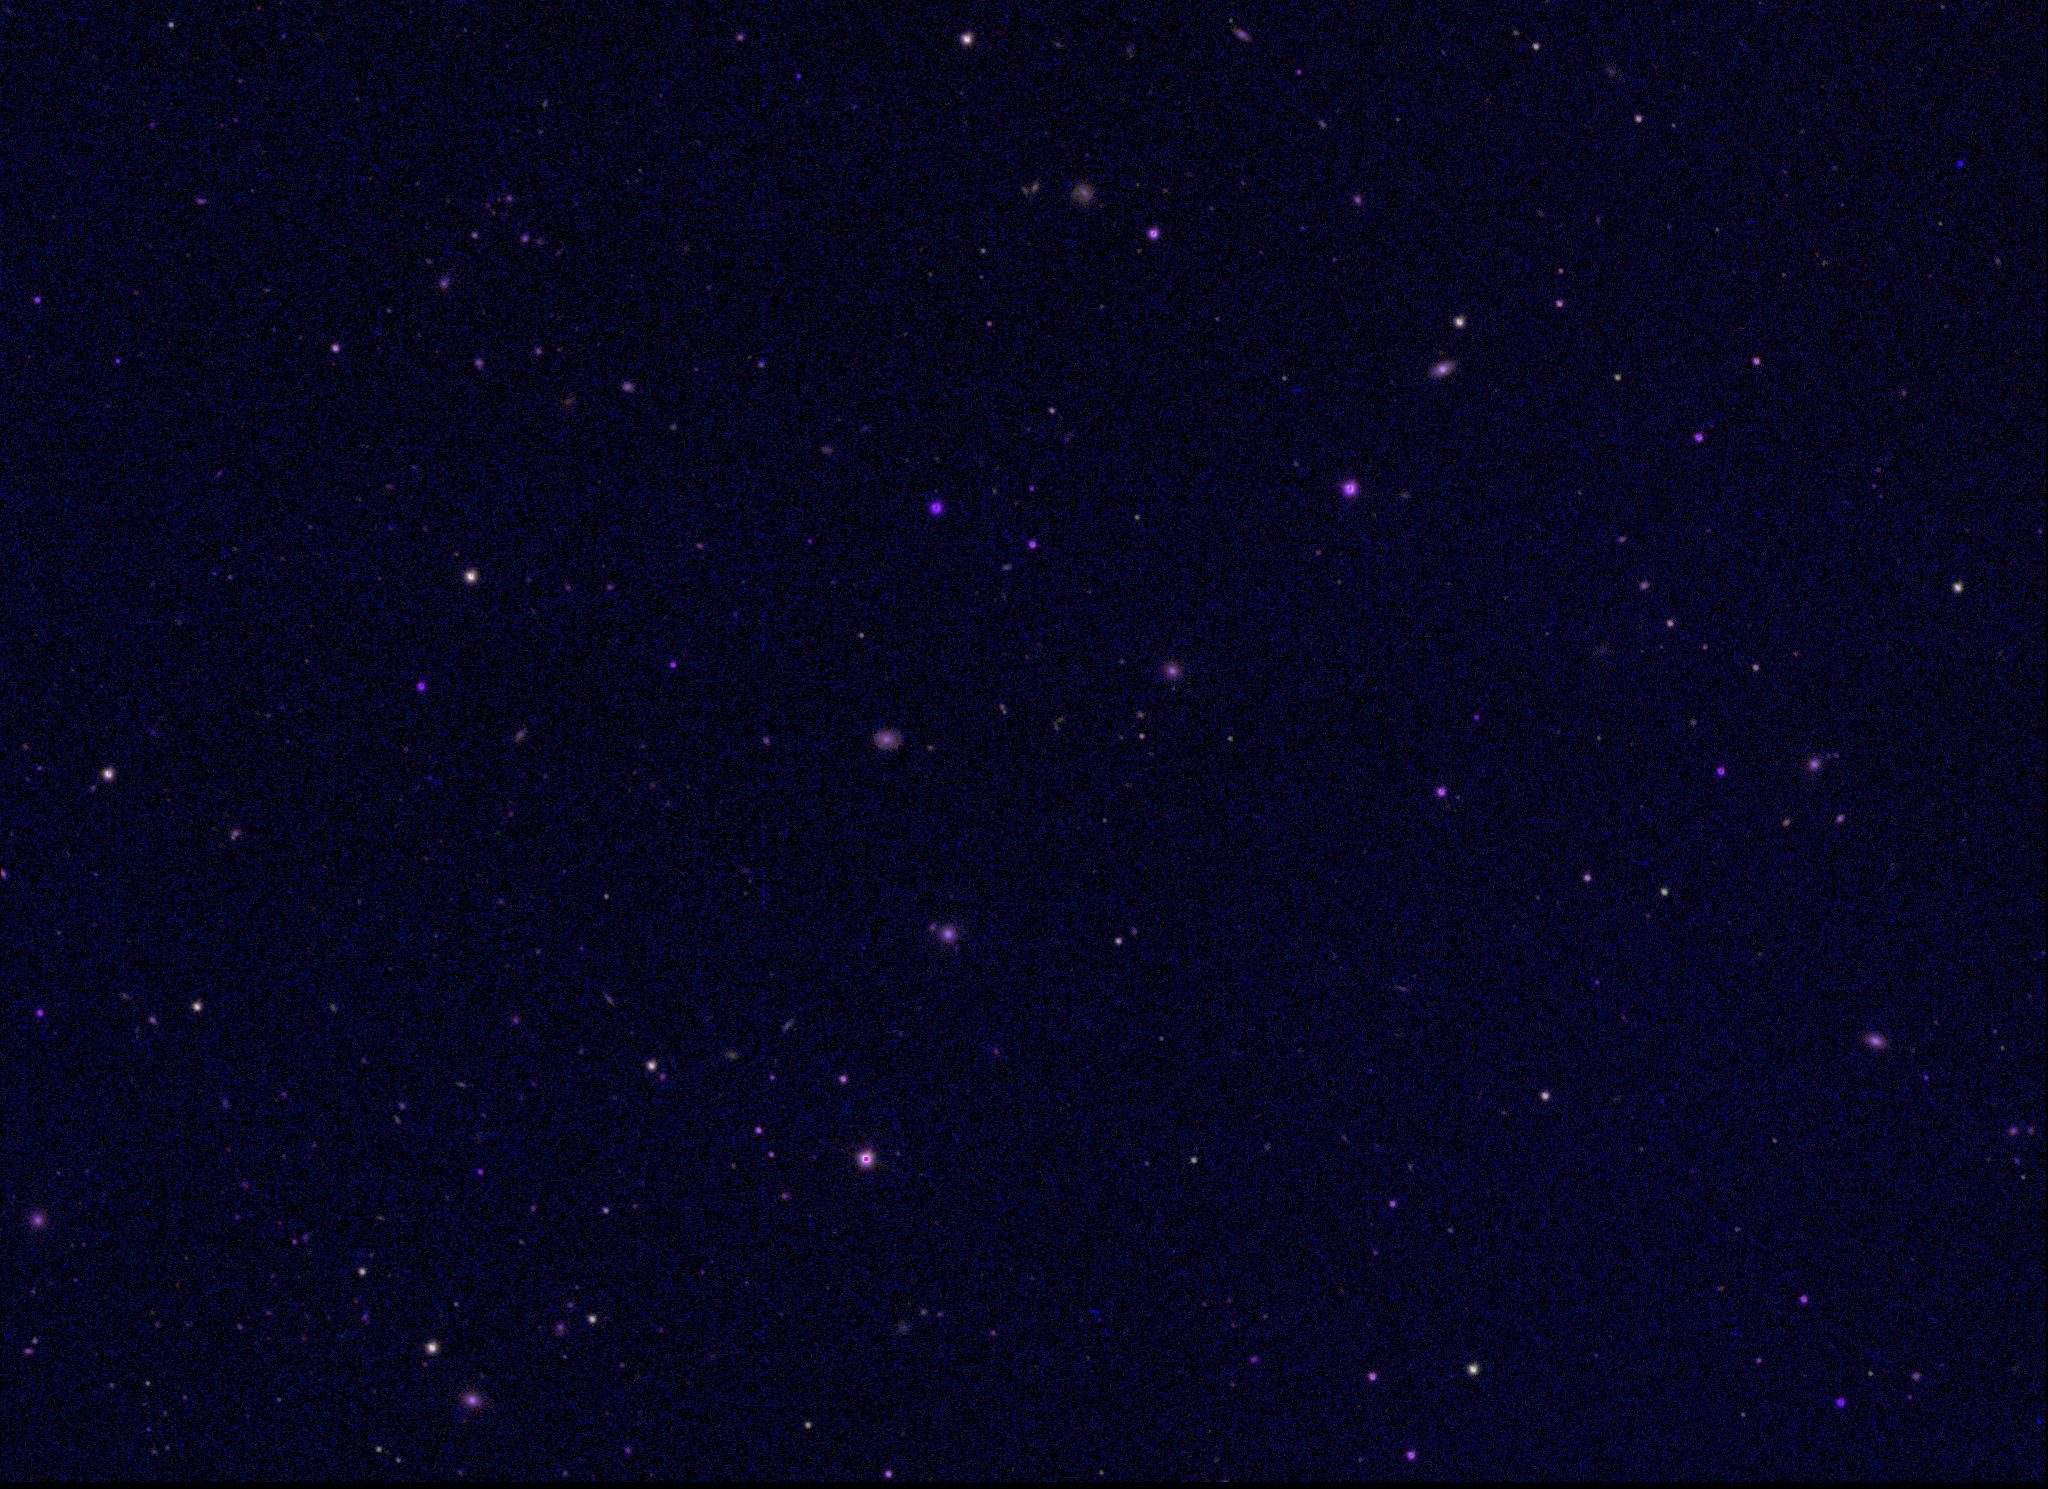L: (1953, 153, 1967, 167)
